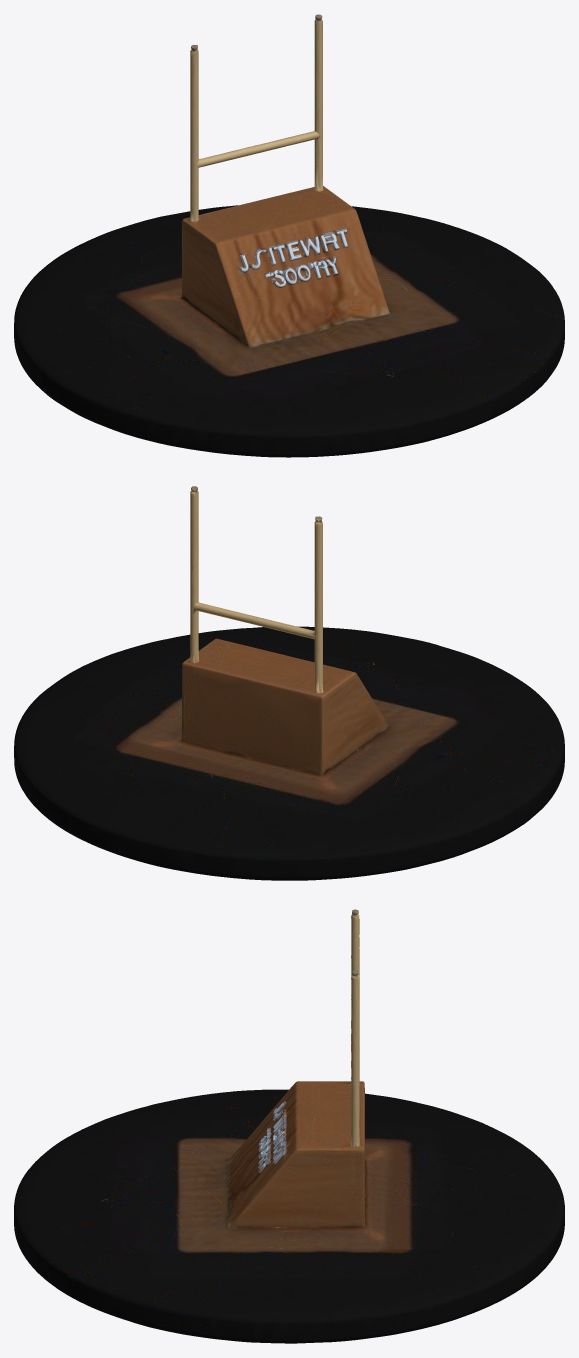
Rendered from jjStewart.glb.
The picture shows the model from 3 angles, top to bottom: view 1: azimuth 30°, elevation 25°; view 2: azimuth 150°, elevation 25°; view 3: azimuth 270°, elevation 25°; orthographic projection.
Size of the model in its own units: 1.9 by 1.11 by 1.9.
Materials: 1 (1 with a texture image).
